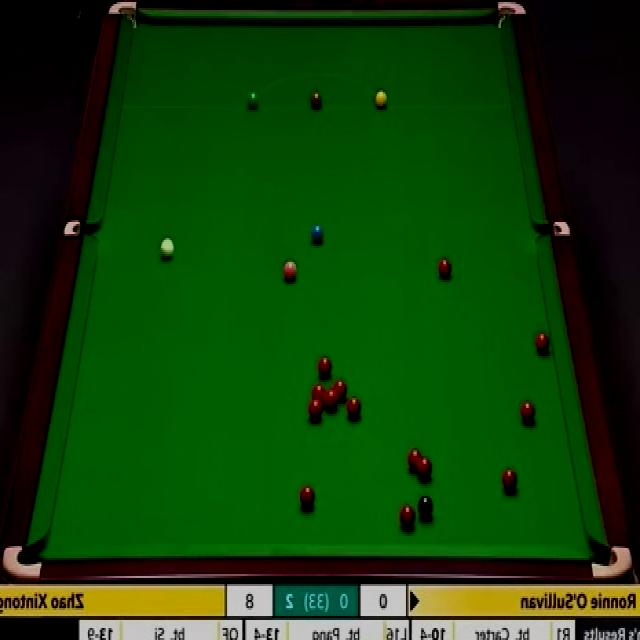black-ball: (417, 496, 433, 523)
blue-ball: (310, 222, 324, 245)
brown-ball: (310, 88, 322, 110)
green-ball: (247, 92, 260, 111)
pink-ball: (283, 260, 297, 281)
red-ball: (298, 484, 316, 511), (501, 467, 519, 494), (535, 332, 552, 358), (520, 398, 536, 425), (401, 505, 416, 532), (416, 456, 432, 480), (346, 396, 361, 421), (408, 446, 422, 471), (318, 356, 332, 380), (334, 378, 348, 402), (438, 257, 452, 278), (309, 400, 322, 421), (312, 385, 325, 405), (325, 389, 338, 408)
white-ball: (160, 237, 175, 263)
yellow-ball: (375, 90, 388, 111)
